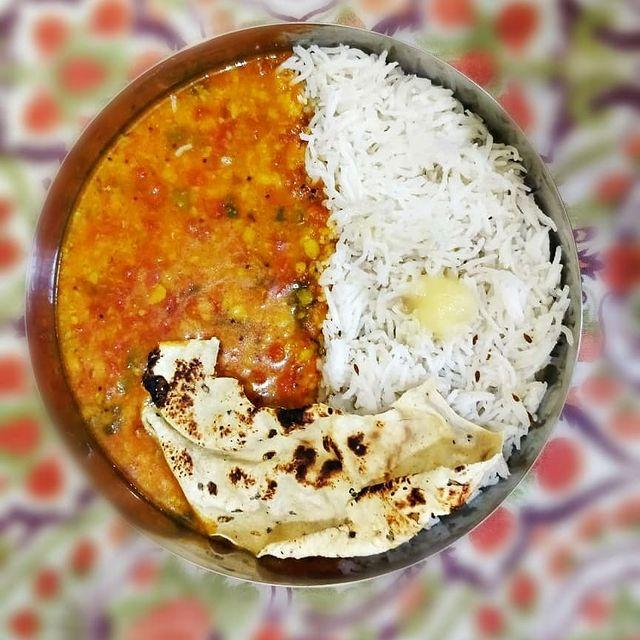Roti: (128, 387, 532, 581)
White Rice: (330, 41, 592, 427)
